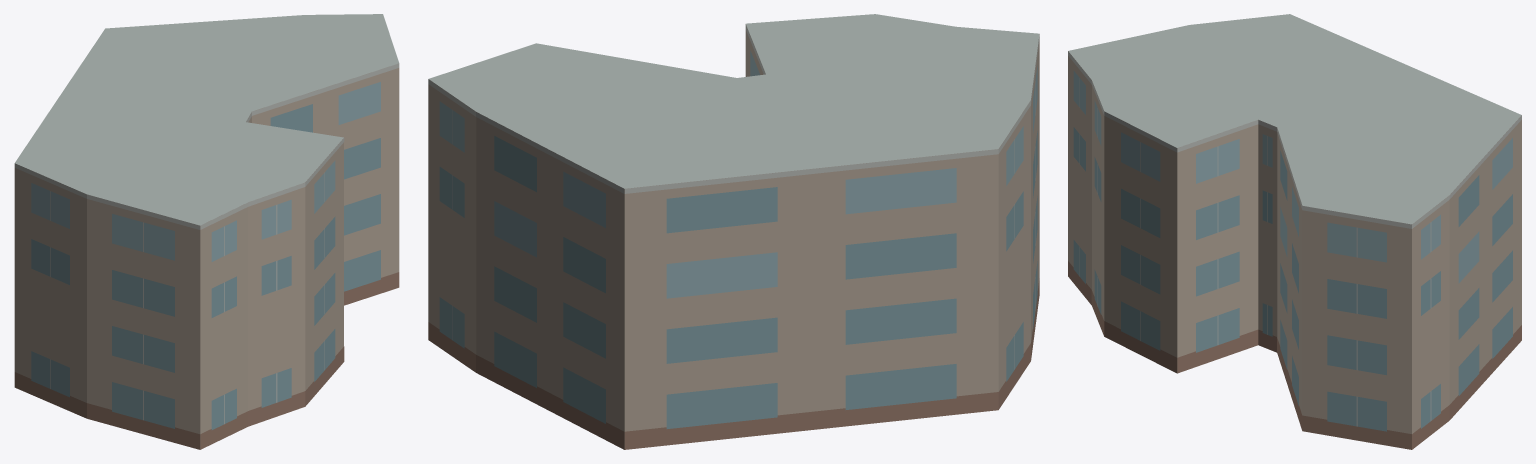
The model's file is survey-upis-32898720.glb.
3 views of the same model, side by side, from view 1: azimuth 30°, elevation 25°; view 2: azimuth 150°, elevation 25°; view 3: azimuth 270°, elevation 25° (orthographic). The views are drawn at different scales.
Visible parts, largest first — view 1: survey-upis-32898720.tmp; view 2: survey-upis-32898720.tmp; view 3: survey-upis-32898720.tmp.
Part boxes in pixels (left/top/right/bottom): survey-upis-32898720.tmp: left=14, top=14, right=399, bottom=449; survey-upis-32898720.tmp: left=428, top=14, right=1039, bottom=449; survey-upis-32898720.tmp: left=1068, top=14, right=1521, bottom=449.
Size of the model in its own units: 24.44 by 12.2 by 22.27.
